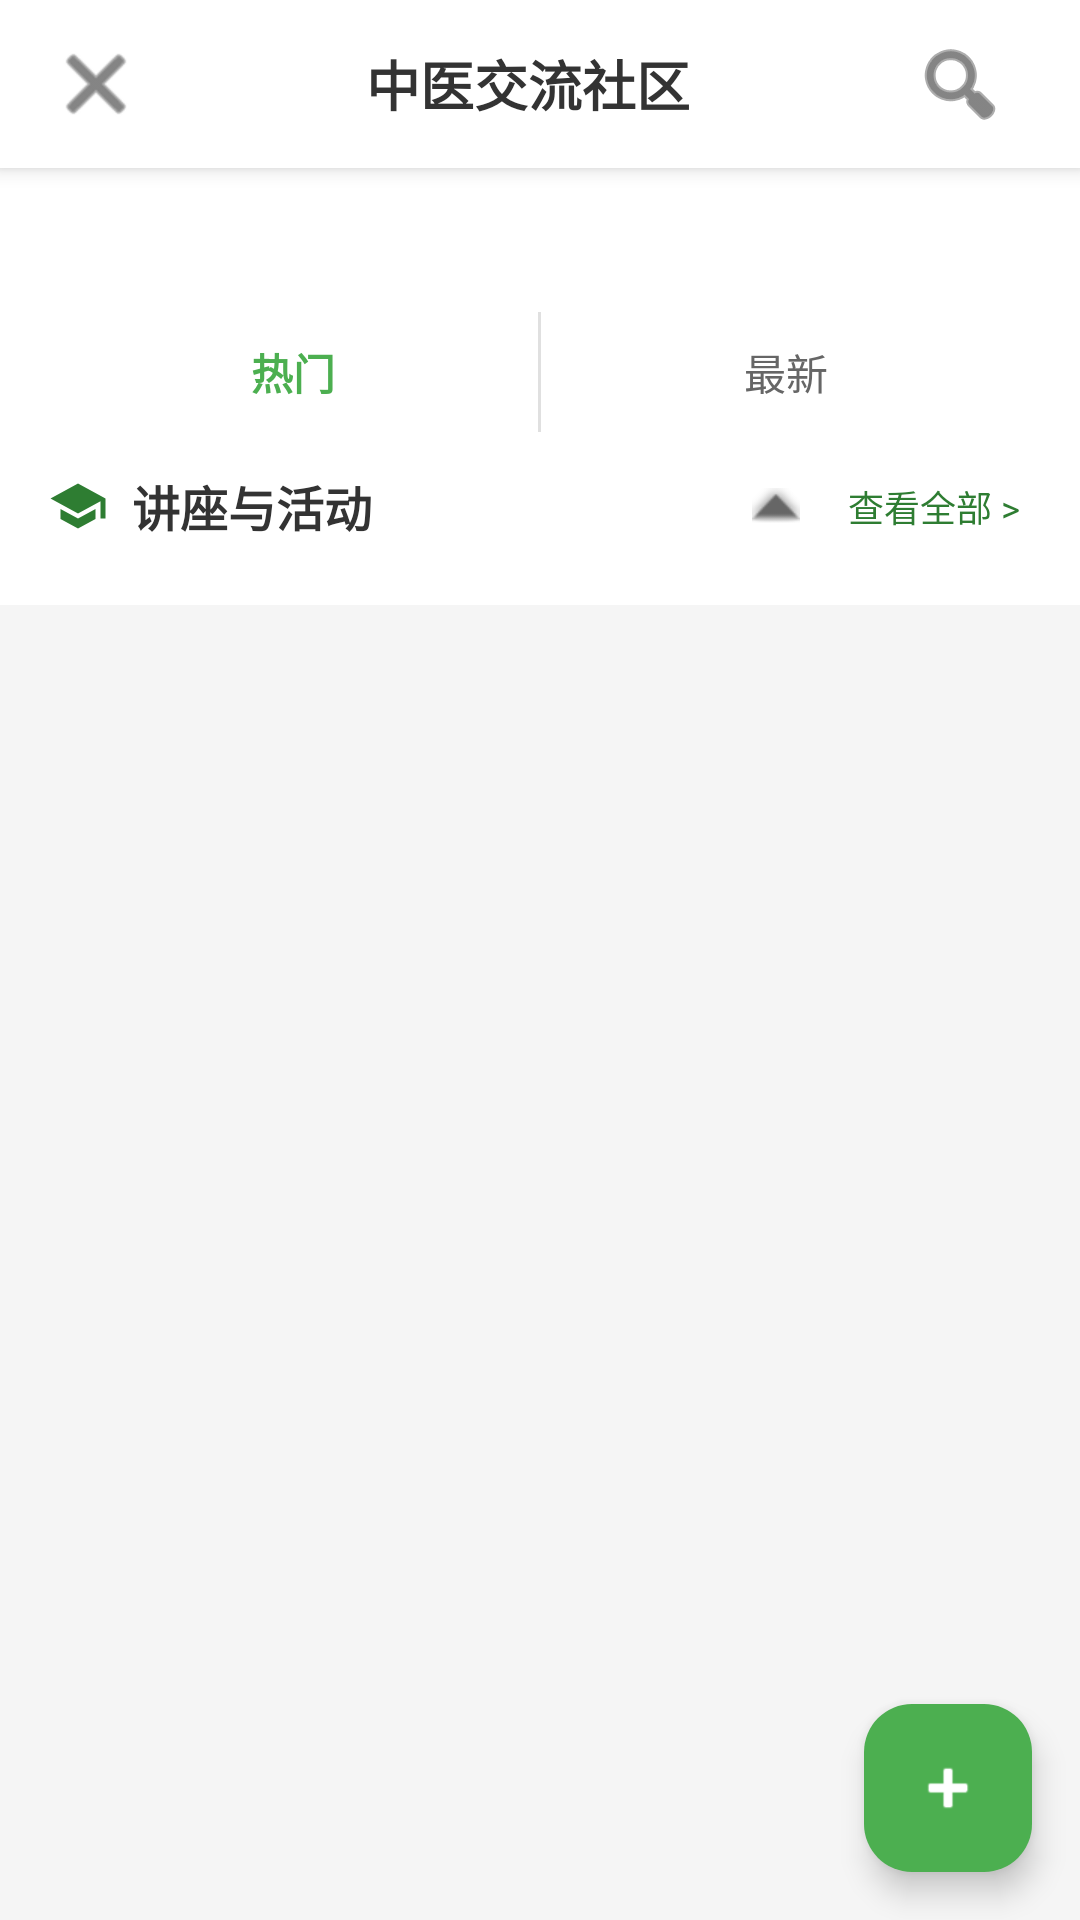

Icon bounding boxes for this 1080×1920 phone screenshot, format (x1, y1, x2, y2):
发帖: (864, 1704, 1032, 1872)
展开收起: (752, 491, 800, 521)
搜索: (925, 49, 995, 120)
返回: (66, 54, 126, 114)
